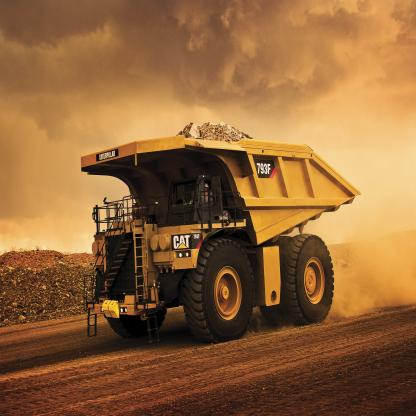dump_truck: (76, 122, 363, 338)
